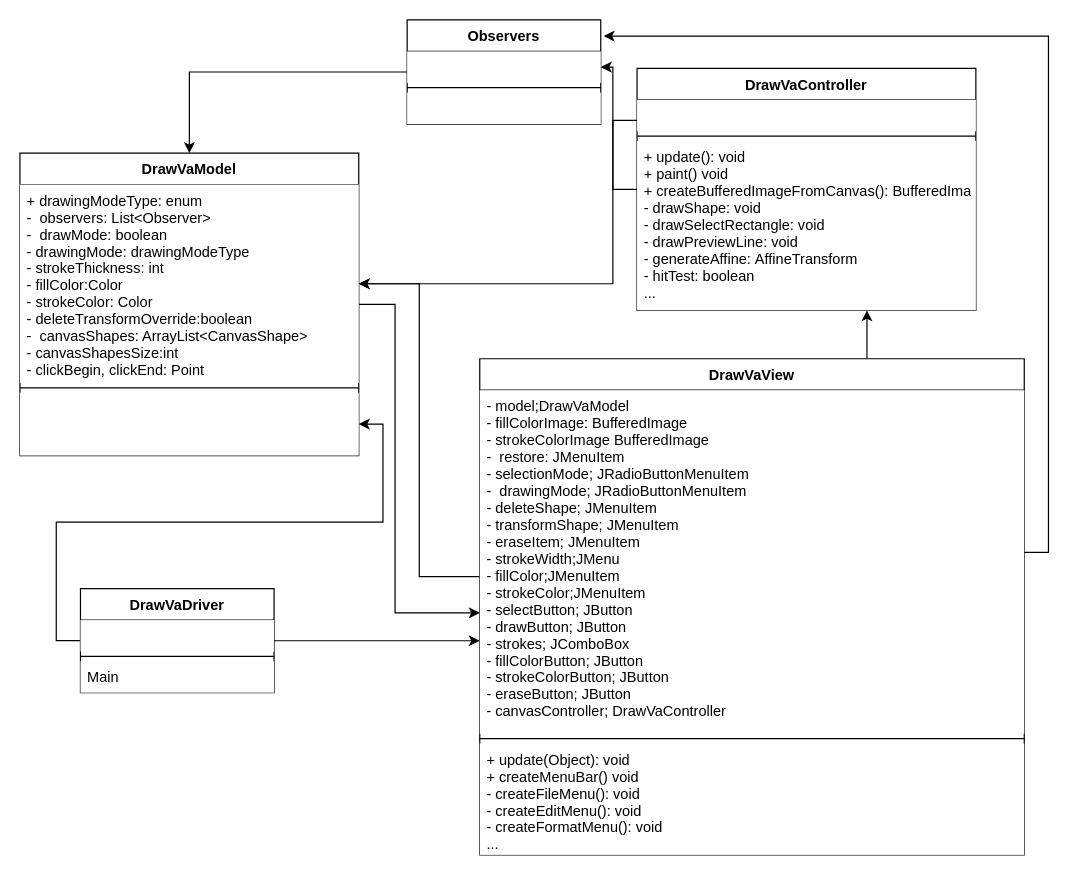
The diagram is 1068 pixels wide and 875 high, and some of its shapes have lost their labels. Each missing label, with the centre of its shape:
"+ File methods: void + Observer methods: void" belongs at [188,423].
"- model:DrawVaModel" belongs at [805,115].
"update(Object): void" belongs at [503,107].
